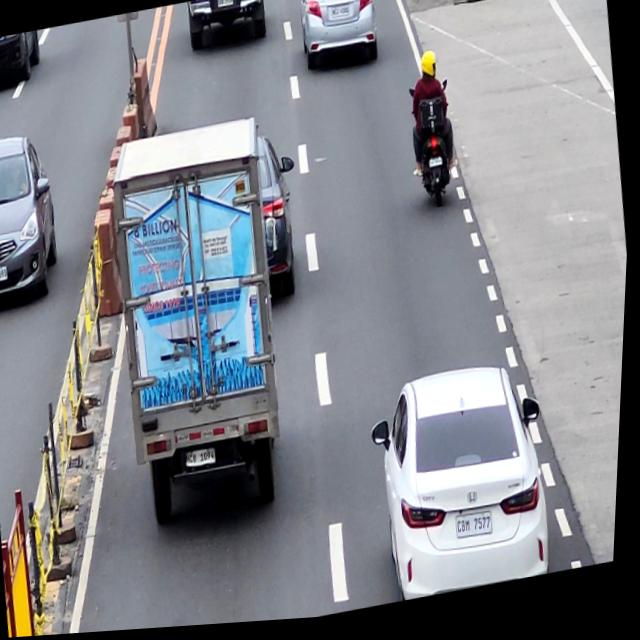Car: (363, 360, 566, 611), (248, 132, 314, 304), (290, 0, 387, 79), (184, 0, 272, 59)
License-Plate: (460, 516, 499, 547), (187, 449, 220, 474), (330, 8, 351, 25), (215, 0, 233, 11), (430, 161, 444, 173)
Motorcycle: (406, 86, 464, 217)
Truck: (95, 116, 307, 538)
